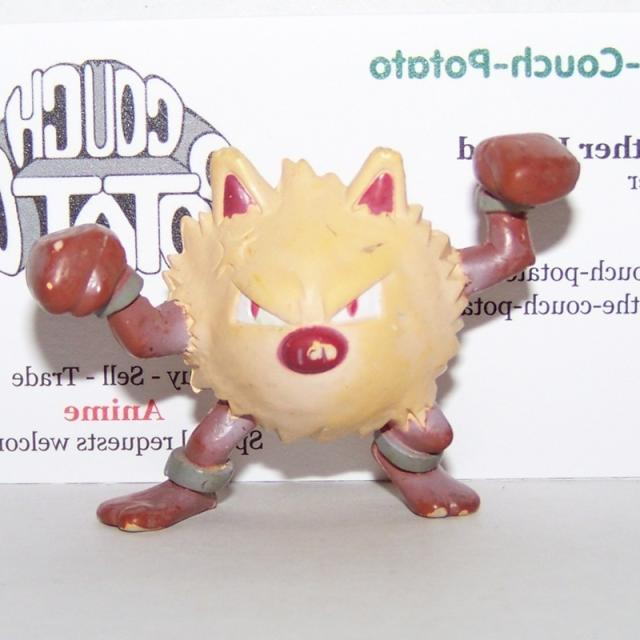Primeape: (110, 158, 512, 520)
